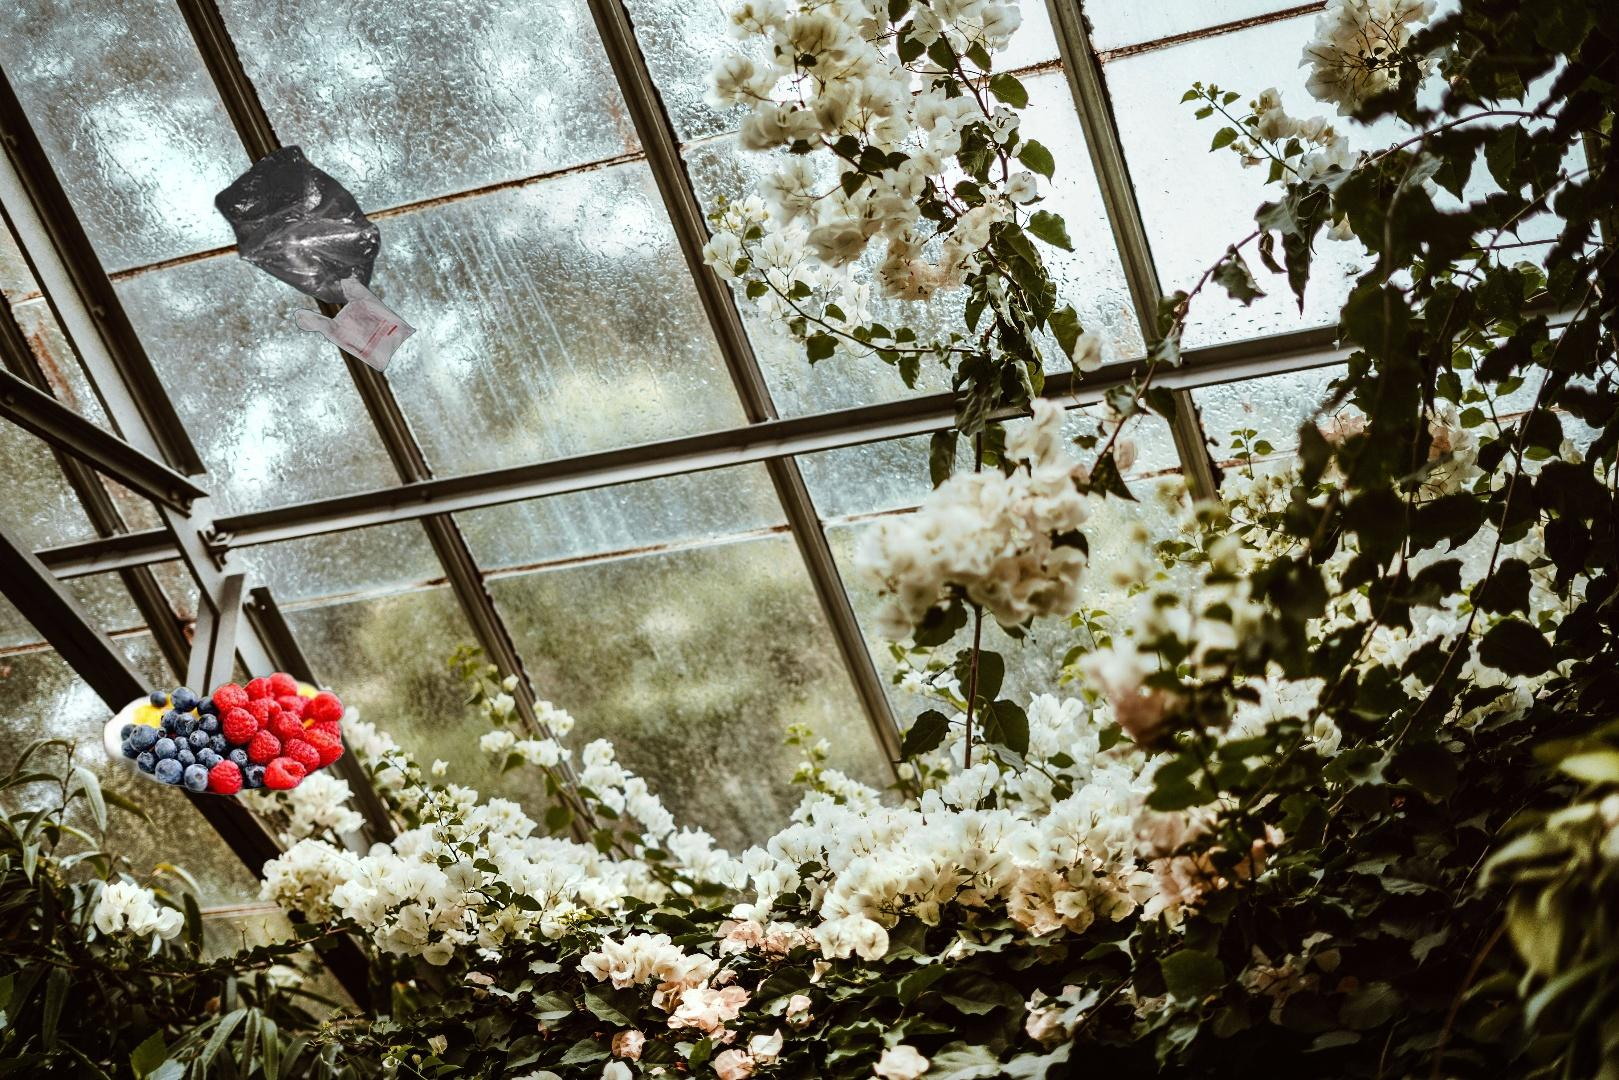biological: (101, 669, 363, 823)
plastic-bag: (212, 142, 417, 375)
